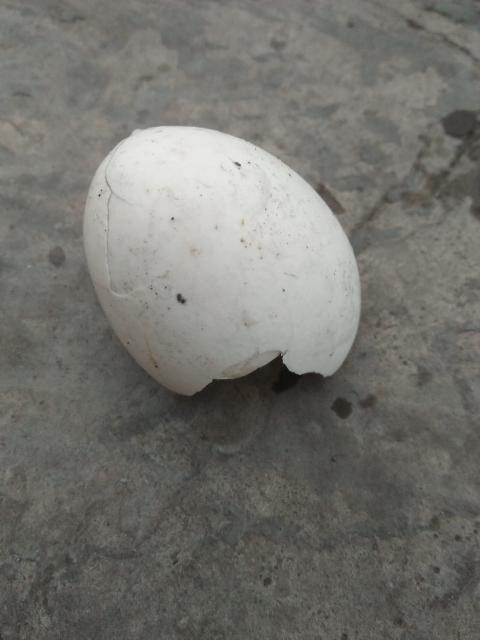Roto: (81, 124, 362, 397)
